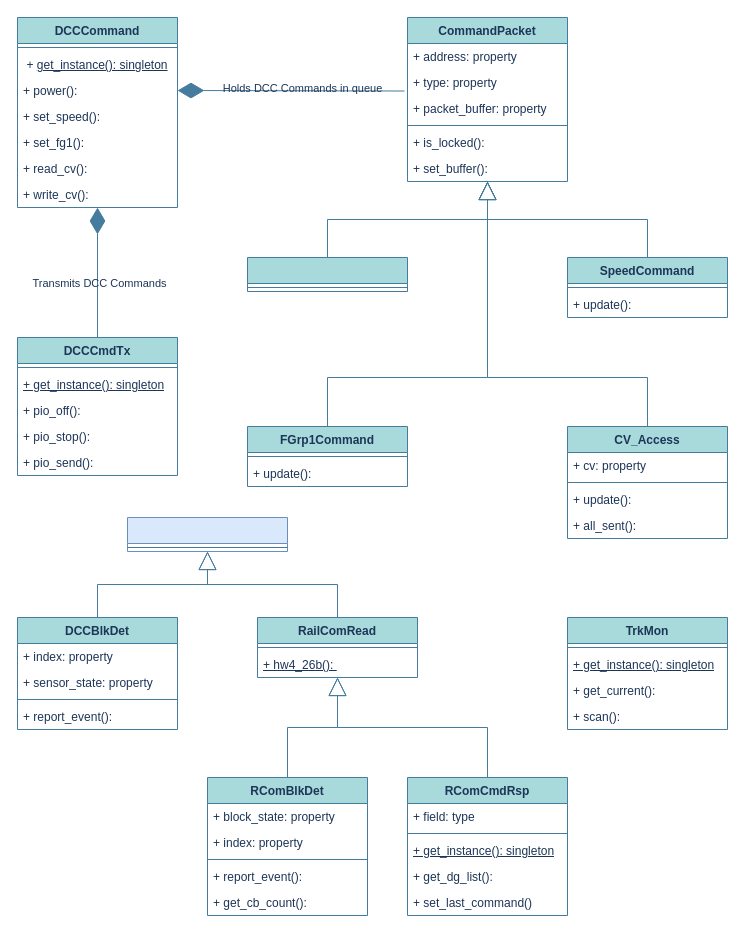
Some shapes in this 745 by 936 pixel diagram are drawn without their labels. Here are the shapes that lost their labels. From the top down, the centre of each, then its label:
pixel 327 274: IdlePacket
pixel 207 534: Device
